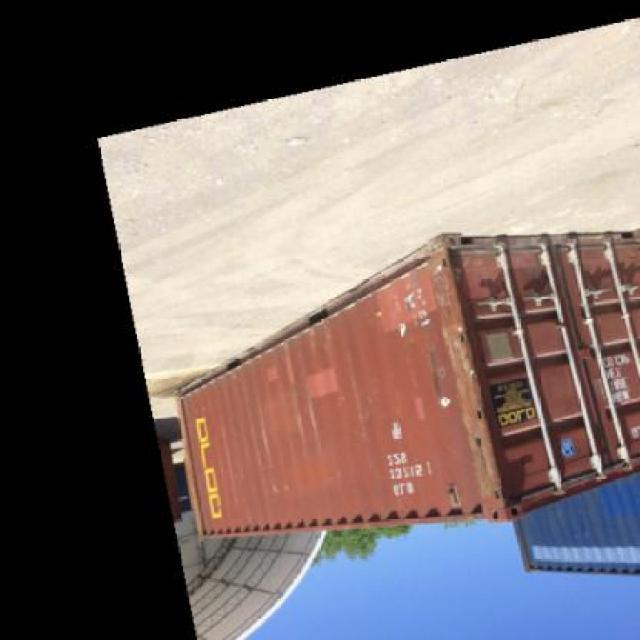hole: (297, 303, 361, 336)
